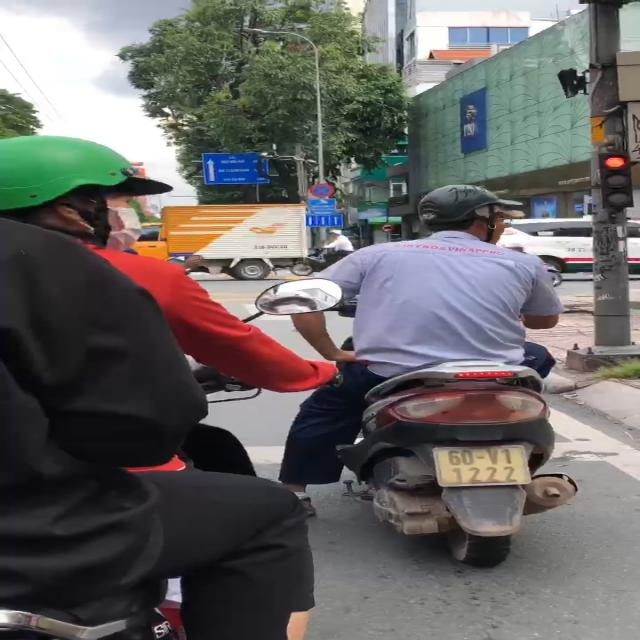Bien bao cam dung xe va do xe: (303, 181, 338, 197)
